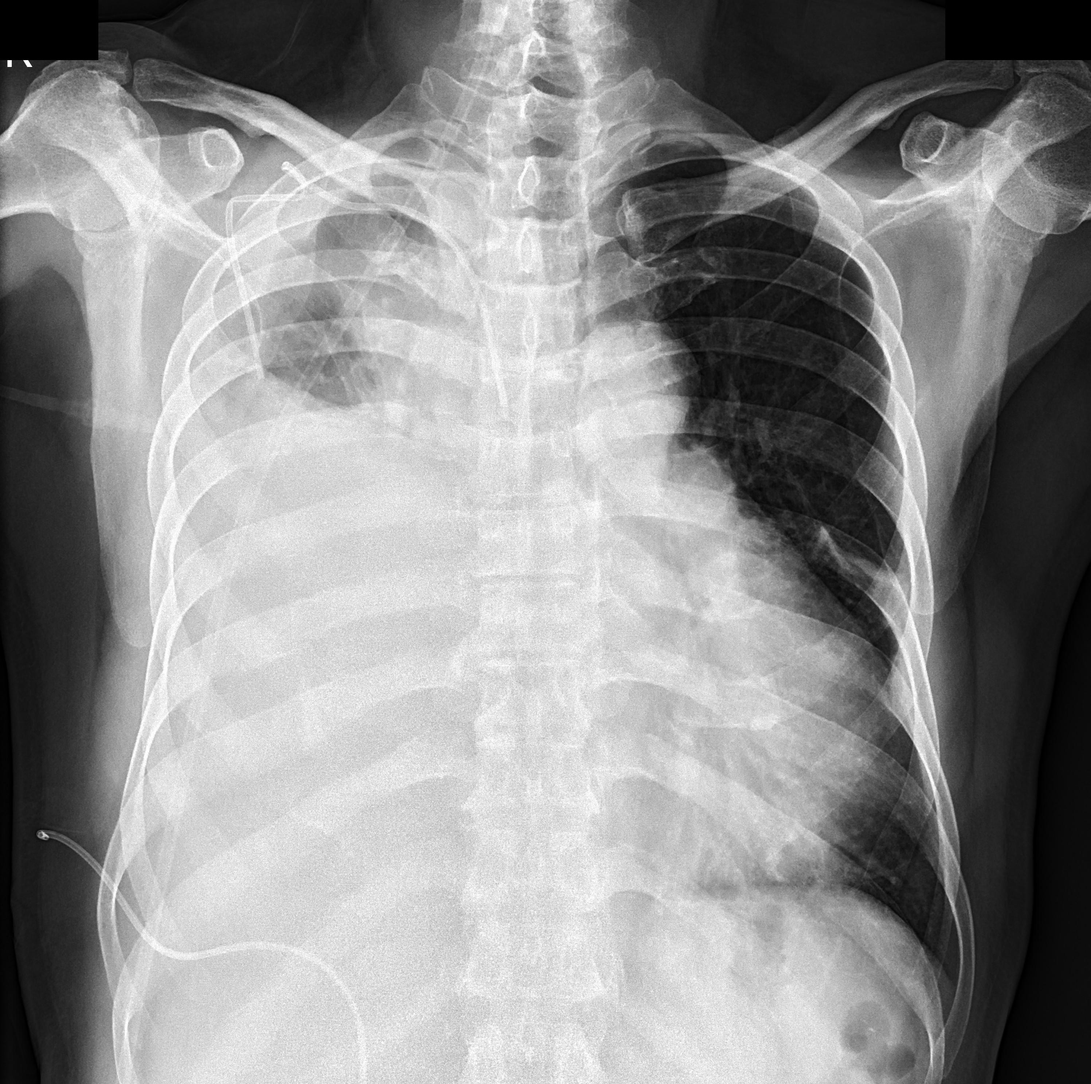Aortic enlargement: (560, 311, 704, 456)
Pulmonary fibrosis: (812, 510, 916, 603)
